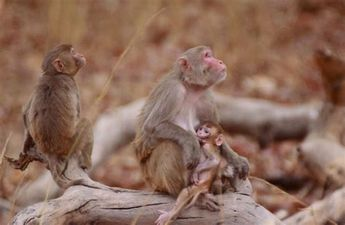monkey: (23, 32, 118, 214), (144, 31, 224, 204), (143, 119, 262, 204)
